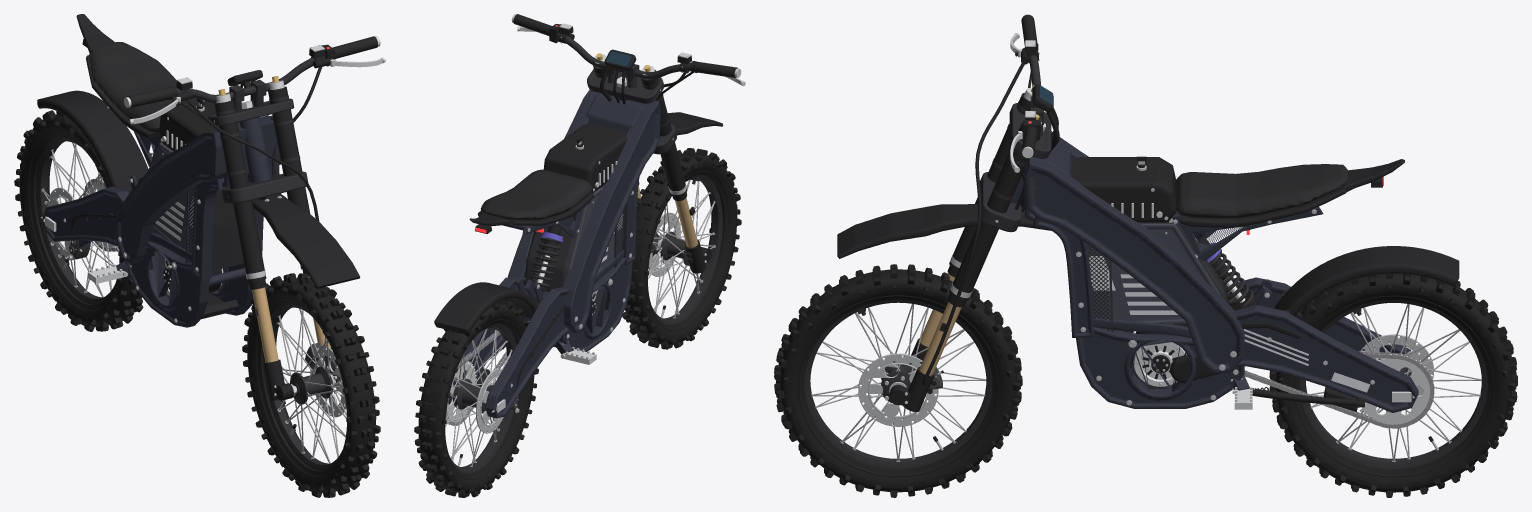
The model's file is SurRon.fbx.
3 renders of one model, left to right at view 1: azimuth 30°, elevation 25°; view 2: azimuth 150°, elevation 25°; view 3: azimuth 270°, elevation 25°, orthographic. The views are drawn at different scales.
Parts seen in each view (by area): view 1: SurRon_FrontWheel_rubber, SurRon_Steering_black, SurRon_RearWheel_rubber, SurRon_Body_frame3, SurRon_Swingarm_black, SurRon_Body_seat, SurRon_Body_frame6, SurRon_Steering_rim, SurRon_Body_black, SurRon_Swingarm_frame2, SurRon_FrontWheel_spoke, SurRon_Body_frame4 (+17 smaller); view 2: SurRon_FrontWheel_rubber, SurRon_RearWheel_rubber, SurRon_Body_frame3, SurRon_Body_black, SurRon_Swingarm_frame2, SurRon_Steering_black, SurRon_Body_seat, SurRon_Swingarm_black, SurRon_Body_frame6, SurRon_Steering_rim, SurRon_FrontWheel_spoke, SurRon_FrontWheel_rim (+21 smaller); view 3: SurRon_FrontWheel_rubber, SurRon_RearWheel_rubber, SurRon_Body_frame2, SurRon_Steering_black, SurRon_Body_black, SurRon_Swingarm_frame, SurRon_Body_frame5, SurRon_Body_seat, SurRon_Swingarm_black, SurRon_FrontWheel_rim, SurRon_Body_panel, SurRon_RearWheel_rim (+19 smaller).
Part boxes in pixels (x1,y1,x2,y2): SurRon_FrontWheel_rubber: (242, 273, 380, 497); SurRon_Steering_black: (168, 44, 360, 400); SurRon_RearWheel_rubber: (14, 110, 143, 331); SurRon_Body_frame3: (115, 129, 225, 264); SurRon_Swingarm_black: (37, 90, 148, 220); SurRon_Body_seat: (89, 42, 198, 132); SurRon_Body_frame6: (125, 241, 209, 327); SurRon_Steering_rim: (176, 56, 325, 203); SurRon_Body_black: (76, 14, 238, 319); SurRon_Swingarm_frame2: (42, 175, 142, 246); SurRon_FrontWheel_spoke: (276, 308, 346, 463); SurRon_Body_frame4: (191, 173, 279, 280); SurRon_FrontWheel_rubber: (622, 148, 741, 349); SurRon_RearWheel_rubber: (414, 299, 538, 497); SurRon_Body_frame3: (562, 100, 660, 333); SurRon_Body_black: (469, 123, 627, 347); SurRon_Swingarm_frame2: (485, 278, 569, 418); SurRon_Steering_black: (549, 24, 723, 273); SurRon_Body_seat: (480, 169, 592, 220); SurRon_Swingarm_black: (434, 282, 556, 387); SurRon_Body_frame6: (559, 254, 632, 351); SurRon_Steering_rim: (557, 33, 690, 154); SurRon_FrontWheel_spoke: (648, 180, 715, 318); SurRon_FrontWheel_rim: (652, 175, 722, 324); SurRon_FrontWheel_rubber: (774, 264, 1022, 497); SurRon_RearWheel_rubber: (1269, 273, 1517, 497); SurRon_Body_frame2: (1025, 156, 1244, 373); SurRon_Steering_black: (837, 39, 1053, 412); SurRon_Body_black: (1072, 156, 1404, 388); SurRon_Swingarm_frame: (1234, 305, 1418, 412); SurRon_Body_frame5: (1076, 327, 1244, 408); SurRon_Body_seat: (1175, 164, 1347, 218); SurRon_Swingarm_black: (1240, 246, 1459, 411); SurRon_FrontWheel_rim: (804, 299, 992, 468); SurRon_Body_panel: (1087, 223, 1220, 328); SurRon_RearWheel_rim: (1300, 300, 1487, 468).
Bounding box in the file's own units: 0.8102 × 1.16 × 1.88.
